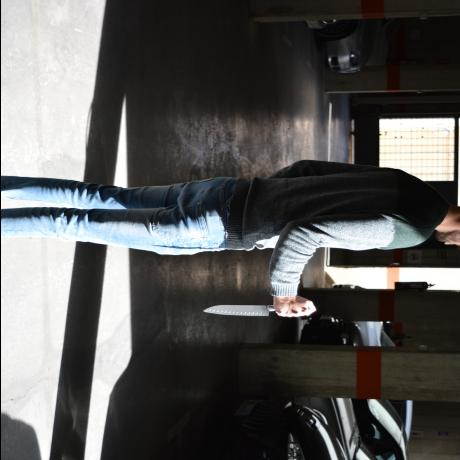1: (0, 158, 459, 316)
weapon: (202, 304, 314, 318)
